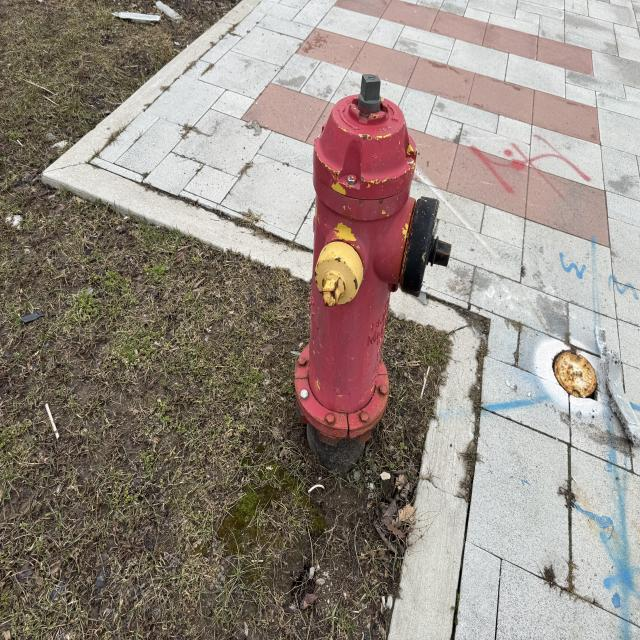Fire hydrant: (292, 73, 452, 449)
